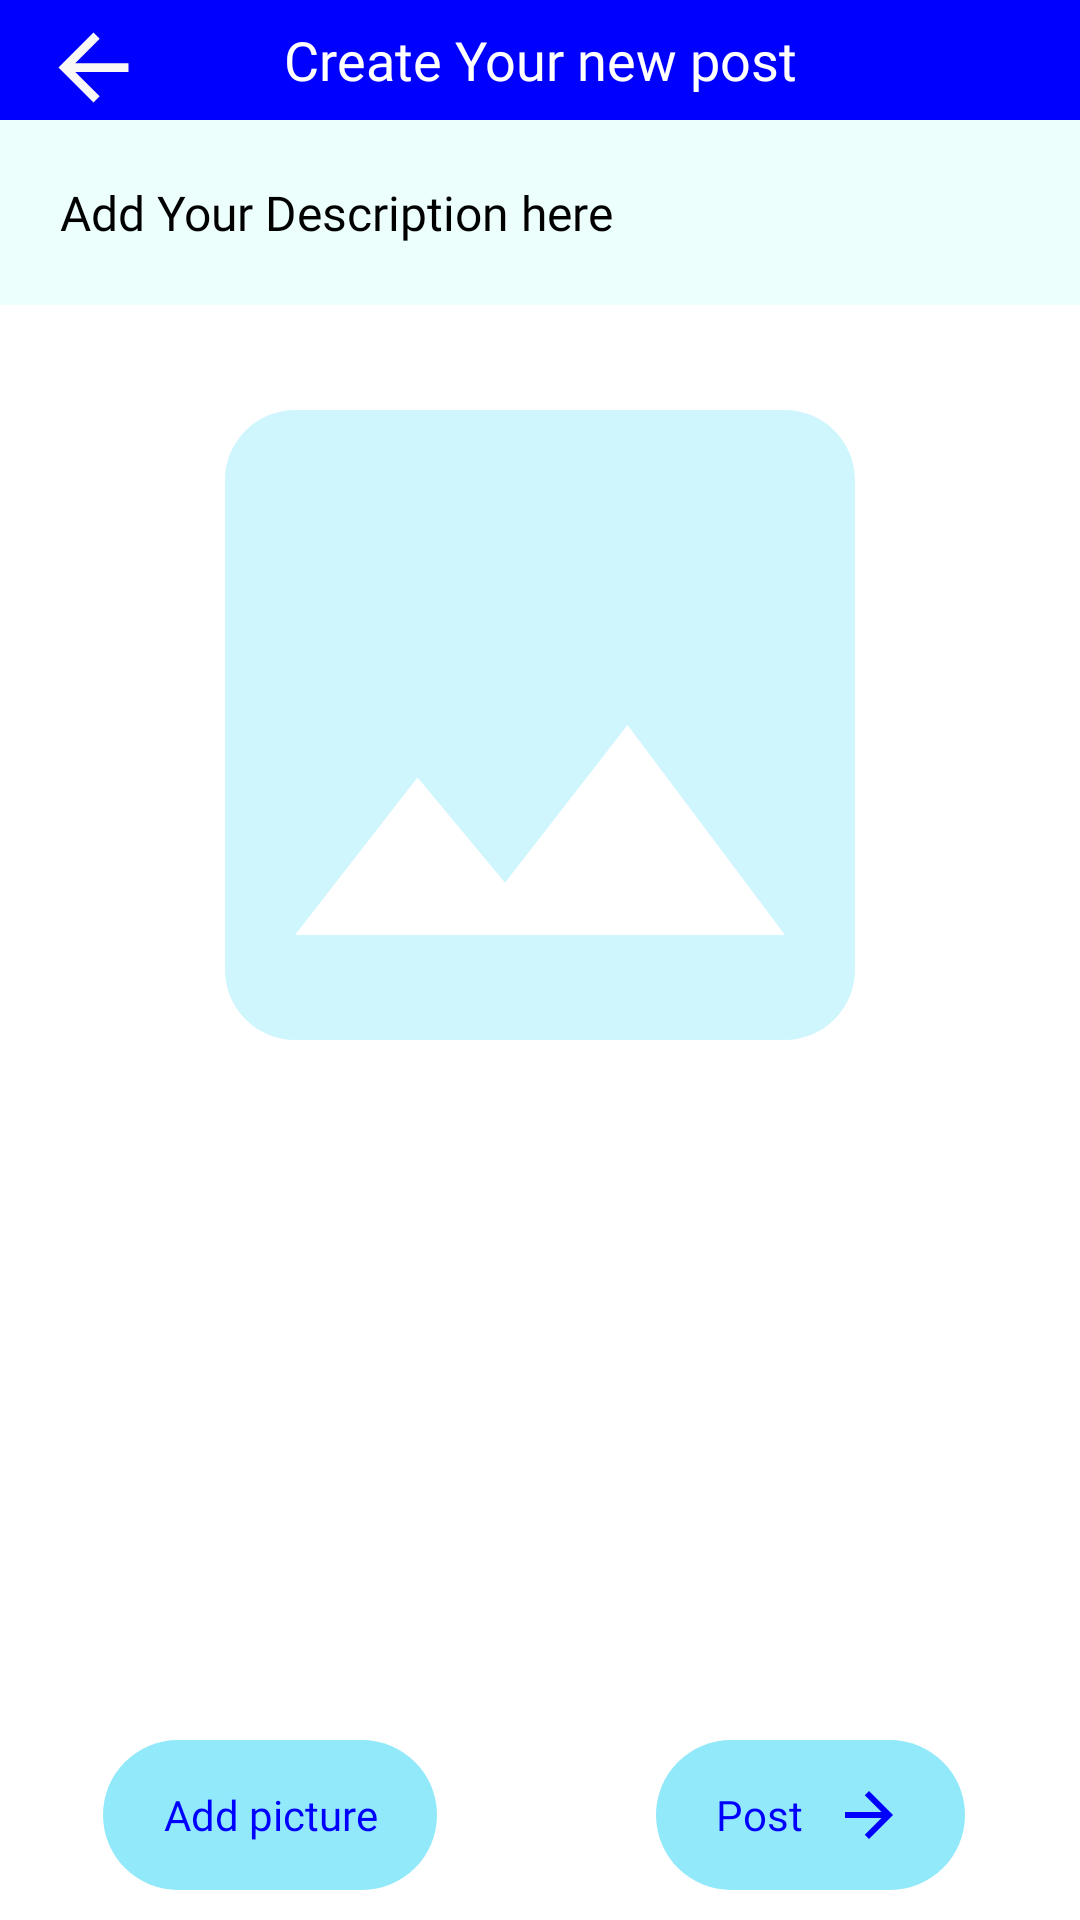

Where icons sit on this 1080*1920 app screen, as Rect(x1, y1, x2, y2):
arrow back: Rect(58, 32, 129, 103)
